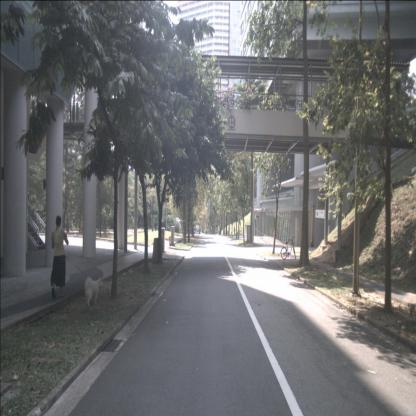human-pedestrian-adult: (50, 215, 69, 300), (234, 226, 235, 236)
vehicle-bicycle: (280, 236, 297, 259)
